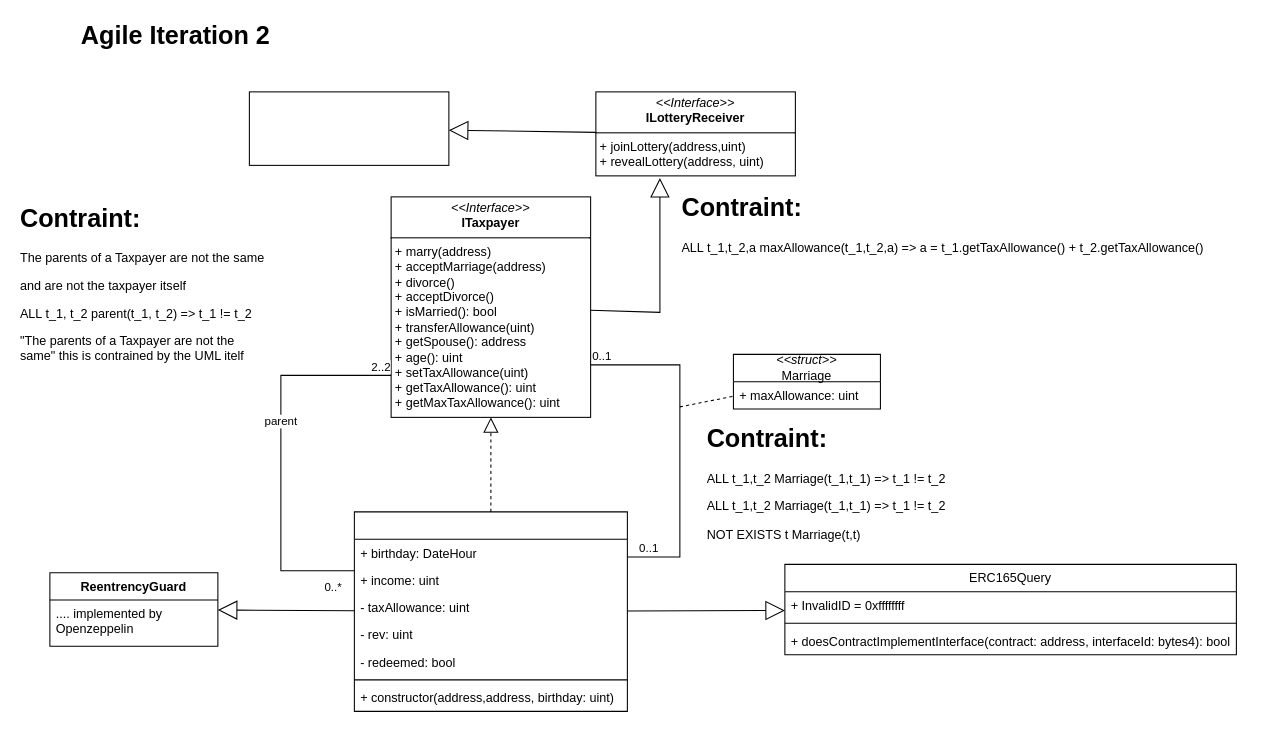
Some shapes in this 1264 by 732 pixel diagram are drawn without their labels. Here are the shapes that lost their labels. From the top down, the box of each, then its label:
(248, 91, 449, 165): <<Interface>> IERC165 + supportInterface(bytes4): bool
(353, 511, 627, 711): Taxpayer
